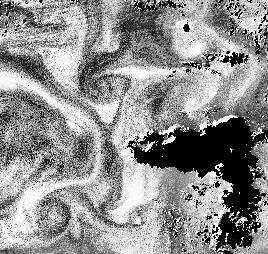CE: (21, 192, 76, 246), (76, 65, 132, 104)
